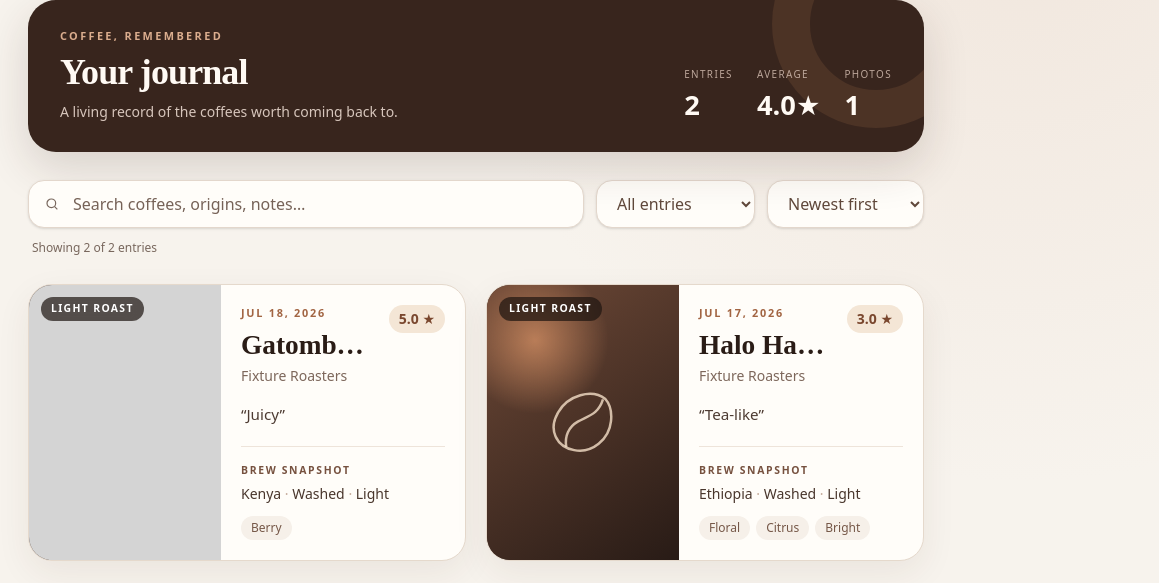
Test: RepertoireView controls › searches the fallback catalog flavors displayed on a card
In the search field named "Search journal": (306, 204) [28,180,584,228], type "floral"
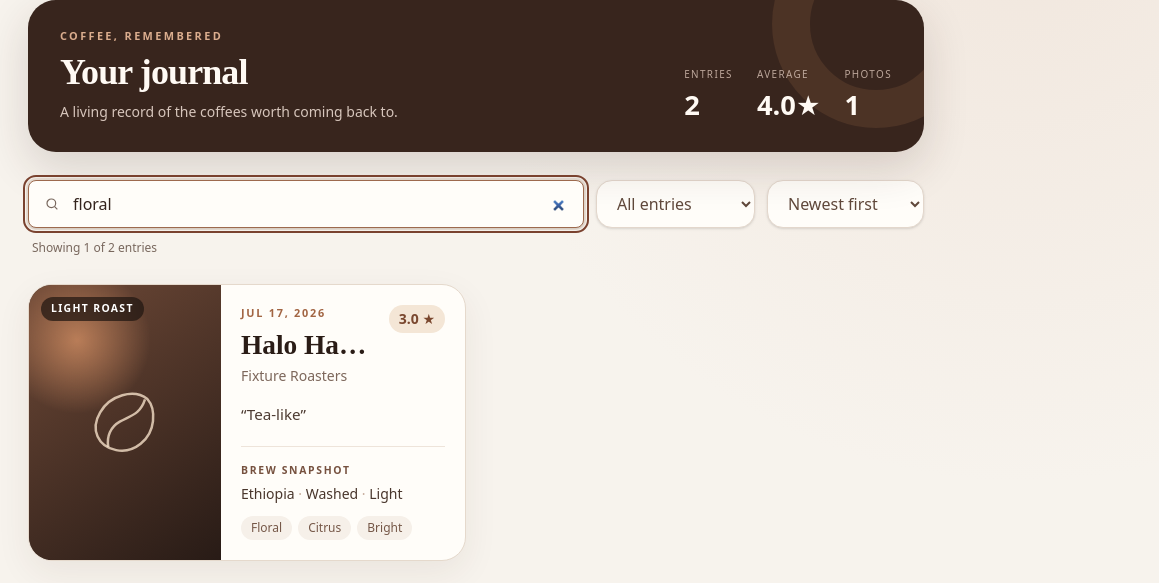
Expected: the heading "Halo Hartume" is shown, [241,326,373,364]
Expected: the button "Gatomboya" is gone
